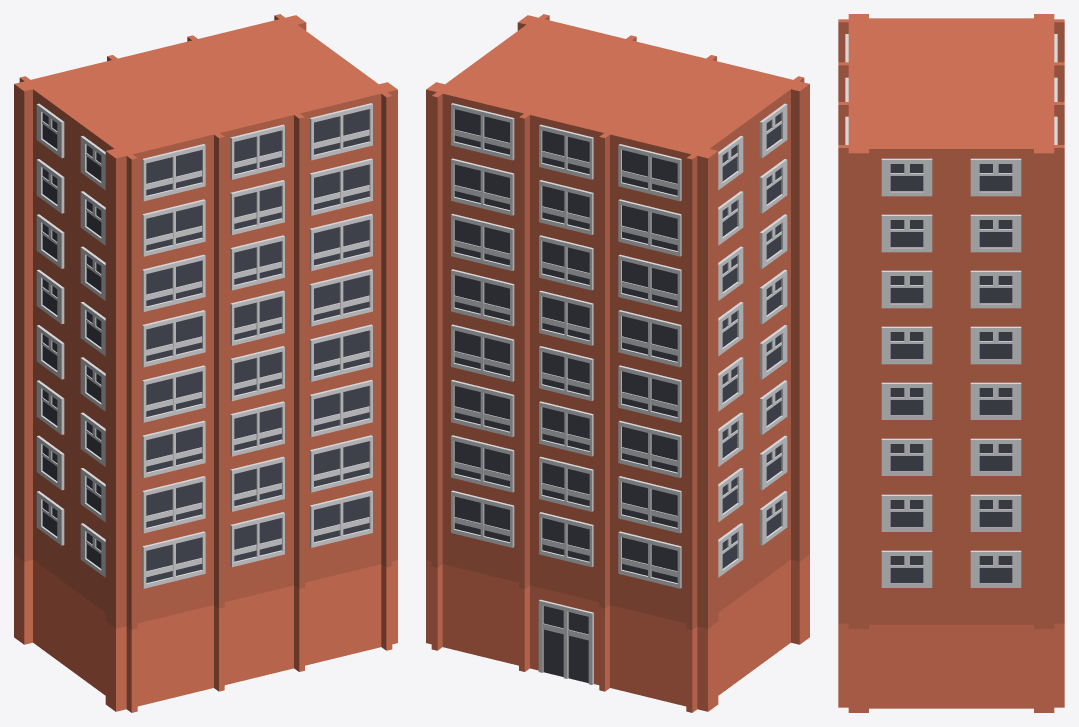
File: Building 02.fbx
3 views of the same model, side by side, from view 1: azimuth 30°, elevation 25°; view 2: azimuth 150°, elevation 25°; view 3: azimuth 270°, elevation 25° (orthographic).
Parts seen in each view (by area): view 1: block_6, columns_8, columns_thin_40, columns_thin_39, columns_7, window_width_50, window_width_61, window_width_41, window_width_43, window_width_49, window_width_56, window_width_47 (+25 smaller); view 2: block_6, columns_8, columns_thin_37, columns_thin_38, door_wide_11, columns_7, window_width_21, window_width_30, window_width_12, window_width_14, window_width_18, window_width_27 (+26 smaller); view 3: block_6, columns_7, columns_thin_37, columns_thin_40, window_detail_double_73, window_detail_double_76, window_detail_double_77, window_detail_double_80, window_detail_double_66, window_detail_double_67, window_detail_double_69, window_detail_double_72 (+2 smaller).
Part boxes in pixels (bbox=[...]): block_6: bbox=[23, 17, 388, 709]; columns_8: bbox=[14, 82, 124, 711]; columns_thin_40: bbox=[293, 90, 392, 671]; columns_thin_39: bbox=[126, 131, 224, 712]; columns_7: bbox=[287, 15, 397, 644]; window_width_50: bbox=[142, 420, 205, 477]; window_width_61: bbox=[142, 144, 205, 201]; window_width_41: bbox=[309, 490, 372, 547]; window_width_43: bbox=[142, 531, 205, 588]; window_width_49: bbox=[142, 365, 205, 422]; window_width_56: bbox=[142, 310, 205, 367]; window_width_47: bbox=[309, 324, 372, 381]; block_6: bbox=[435, 17, 800, 709]; columns_8: bbox=[699, 82, 809, 711]; columns_thin_37: bbox=[431, 90, 530, 671]; columns_thin_38: bbox=[599, 131, 697, 712]; door_wide_11: bbox=[538, 599, 593, 684]; columns_7: bbox=[426, 15, 536, 644]; window_width_21: bbox=[618, 420, 681, 477]; window_width_30: bbox=[618, 144, 681, 201]; window_width_12: bbox=[451, 490, 514, 547]; window_width_14: bbox=[618, 531, 681, 588]; window_width_18: bbox=[618, 365, 681, 422]; window_width_27: bbox=[618, 310, 681, 367]; block_6: bbox=[848, 18, 1054, 708]; columns_7: bbox=[848, 149, 1054, 712]; columns_thin_37: bbox=[1049, 102, 1064, 707]; columns_thin_40: bbox=[838, 102, 853, 707]; window_detail_double_73: bbox=[881, 270, 1021, 308]; window_detail_double_76: bbox=[881, 326, 1021, 364]; window_detail_double_77: bbox=[881, 158, 1021, 196]; window_detail_double_80: bbox=[881, 214, 1021, 252]; window_detail_double_66: bbox=[881, 550, 1021, 587]; window_detail_double_67: bbox=[881, 494, 1021, 531]; window_detail_double_69: bbox=[881, 382, 1021, 419]; window_detail_double_72: bbox=[881, 438, 1021, 475].
Bounding box in the file's own units: 32 × 60 × 22.
